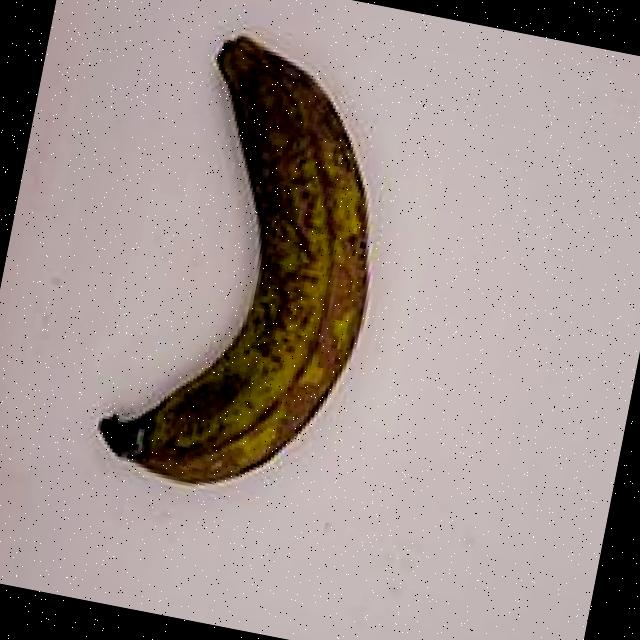Overripe: (3, 0, 455, 579)
